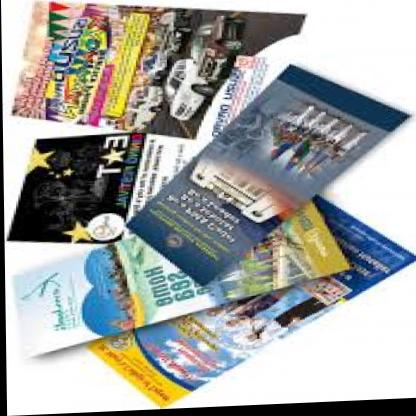Paper: (16, 0, 416, 415)
